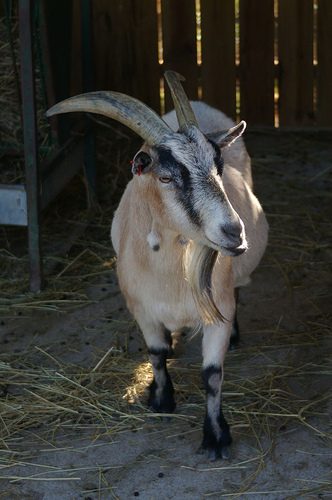goat: (42, 70, 269, 463)
